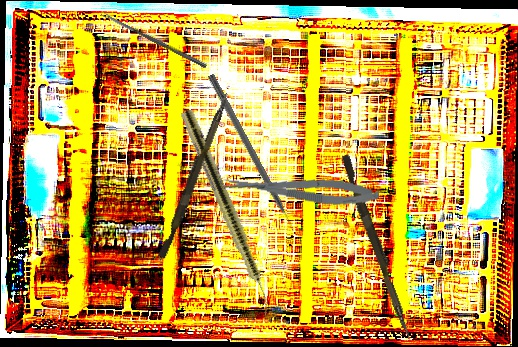Handpiece: (177, 107, 280, 320)
Hook Surgical: (205, 73, 297, 234)
Micro Scissor: (221, 167, 380, 211)
Pusher: (336, 154, 419, 341), (158, 90, 230, 260)
Surgical Spoon: (100, 10, 208, 69)
